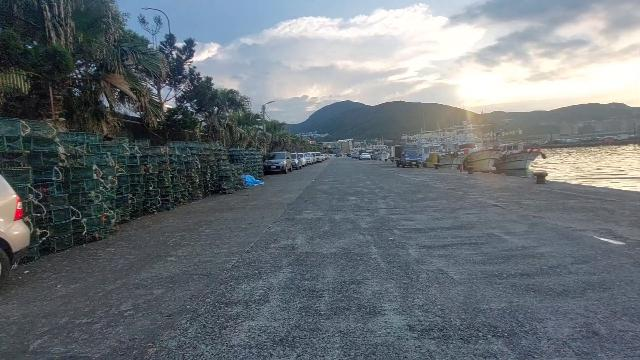pollute: (240, 173, 263, 188)
